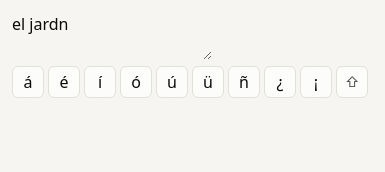
Test: AccentKeyboard › appends at the end of a field that never had focus, and toggles capitals
The image size is (385, 172).
Click the button named "Capital letters": (352, 82) [336, 66, 368, 98]
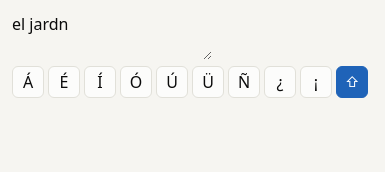
Click the button named "Insert Ñ": (244, 82) [228, 66, 260, 98]
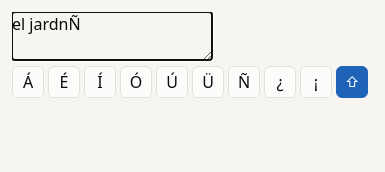
Expected: the text box named "text" holds "el jardnÑ", [12, 12, 212, 60]
